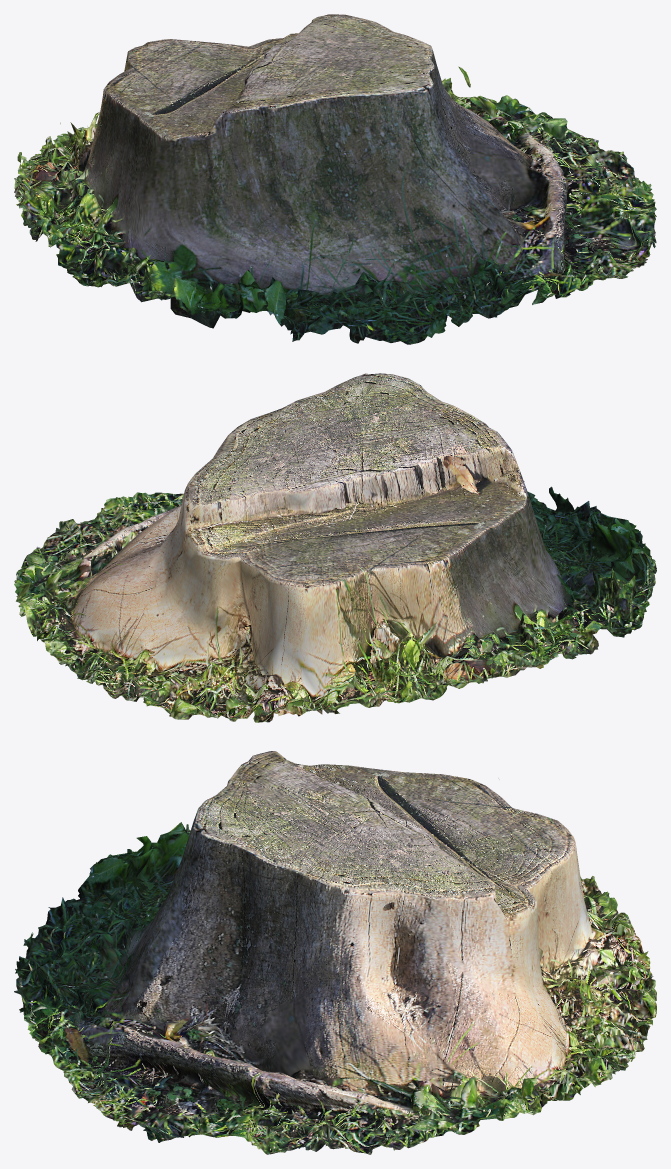
Rendered from kanto.gltf.
The picture shows the model from 3 angles, top to bottom: view 1: azimuth 30°, elevation 25°; view 2: azimuth 150°, elevation 25°; view 3: azimuth 270°, elevation 25°; orthographic projection. The views are drawn at different scales.
Parts seen in each view (by area): view 1: Mesh_0; view 2: Mesh_0; view 3: Mesh_0.
Boxes of the visible parts, left/top/right/bottom form: Mesh_0: left=14, top=14, right=656, bottom=344; Mesh_0: left=14, top=373, right=656, bottom=722; Mesh_0: left=14, top=751, right=656, bottom=1154.
Bounding box in the file's own units: 4.86 × 1.61 × 4.5.
1 material, 1 textured.
